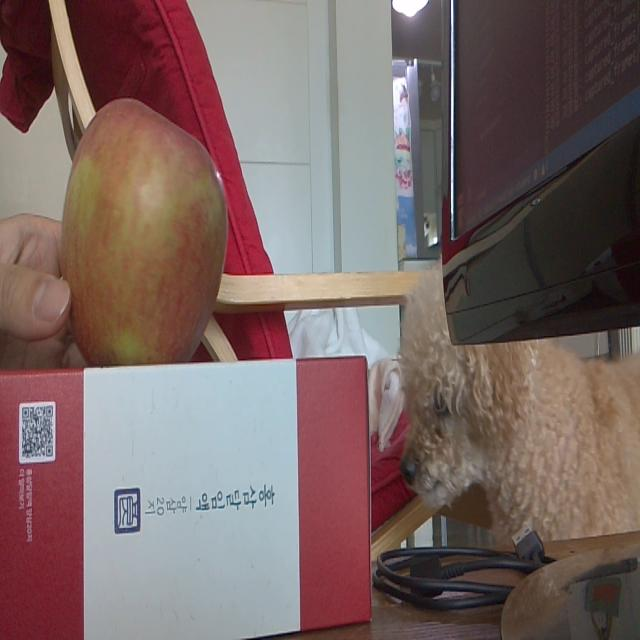apple: (60, 99, 227, 361)
